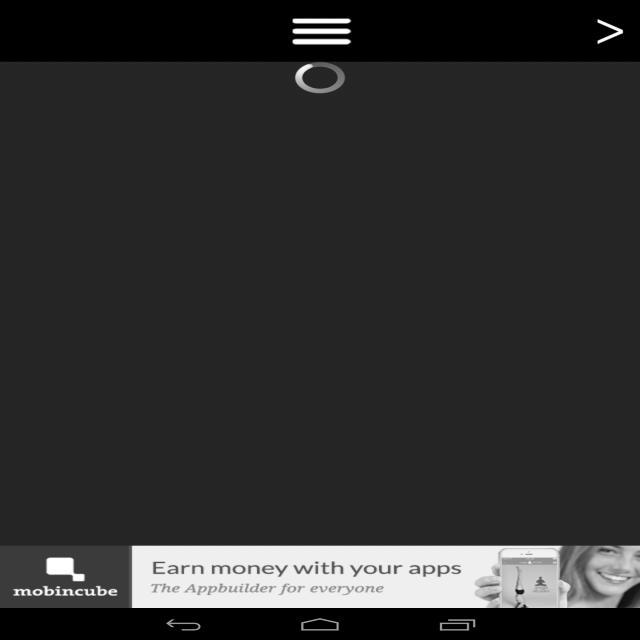ImageButton: (272, 15, 361, 45), (580, 13, 634, 58)
Spinner: (277, 57, 363, 100)
TextView: (149, 556, 472, 596), (11, 576, 126, 608)
